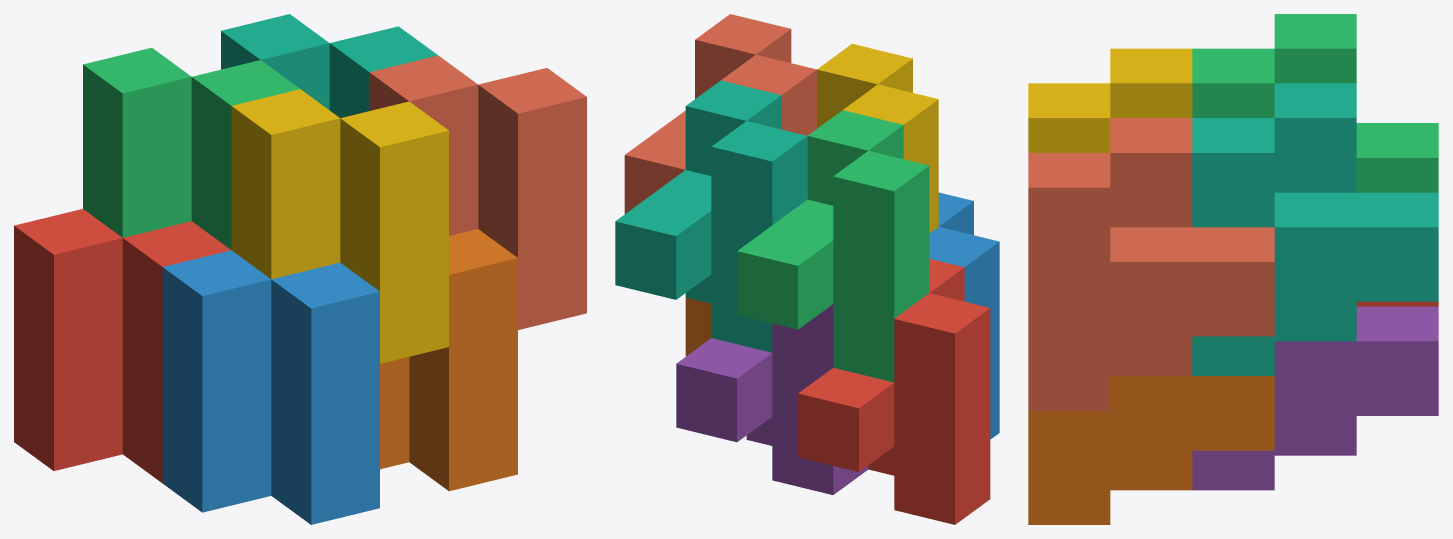
File: tiling.obj
The picture shows the model from 3 angles, left to right: view 1: azimuth 30°, elevation 25°; view 2: azimuth 150°, elevation 25°; view 3: azimuth 270°, elevation 25°; orthographic projection. The views are drawn at different scales.
Parts seen in each view (by area): view 1: copy_1_domain_2, copy_1_domain_4, copy_1_domain_1, copy_1_domain_8, copy_1_domain_3, copy_1_domain_6, copy_1_domain_7; view 2: copy_1_domain_3, copy_1_domain_1, copy_1_domain_7, copy_1_domain_5, copy_1_domain_8, copy_1_domain_4, copy_1_domain_2, copy_1_domain_6; view 3: copy_1_domain_8, copy_1_domain_7, copy_1_domain_6, copy_1_domain_5, copy_1_domain_3, copy_1_domain_4, copy_1_domain_1.
Boxes of the visible parts, box(x1,y1,x2,y2) form: copy_1_domain_2: box(162, 250, 379, 524); copy_1_domain_4: box(231, 89, 448, 363); copy_1_domain_1: box(14, 209, 230, 483); copy_1_domain_8: box(369, 55, 586, 329); copy_1_domain_3: box(83, 47, 299, 249); copy_1_domain_6: box(380, 229, 517, 491); copy_1_domain_7: box(221, 14, 437, 117); copy_1_domain_3: box(737, 110, 929, 382); copy_1_domain_1: box(798, 259, 990, 524); copy_1_domain_7: box(615, 80, 807, 352); copy_1_domain_5: box(676, 304, 868, 494); copy_1_domain_8: box(624, 14, 816, 213); copy_1_domain_4: box(817, 43, 938, 233); copy_1_domain_2: box(929, 192, 999, 439); copy_1_domain_6: box(685, 297, 711, 356); copy_1_domain_8: box(1028, 118, 1274, 410); copy_1_domain_7: box(1192, 83, 1438, 375); copy_1_domain_6: box(1028, 376, 1274, 524); copy_1_domain_5: box(1192, 306, 1438, 490); copy_1_domain_3: box(1192, 14, 1438, 192); copy_1_domain_4: box(1028, 48, 1192, 152); copy_1_domain_1: box(1356, 301, 1438, 306).
Size of the model in its own units: 6 by 5 by 5.
